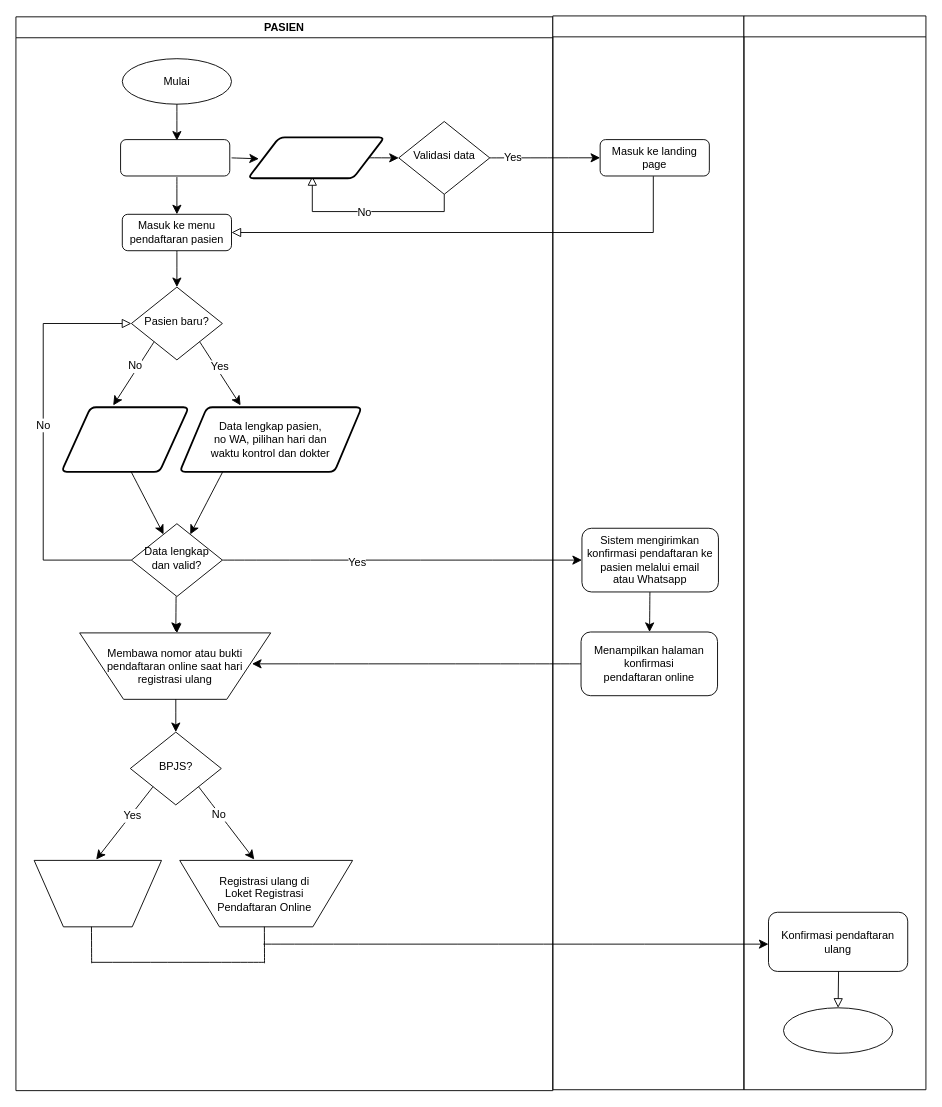
Image size: 942x1107. Some labels were removed from this diagram. Each missing label, with the box of its shape:
Login: (120, 139, 230, 176)
Masukkan data user: (247, 136, 385, 179)
MESIN/PETUGAS LOKET: (743, 15, 926, 1090)
No RM, no WA, hari/waktu kontrol dan dokter: (60, 406, 189, 472)
Registrasi ulang di mesin APM: (33, 859, 162, 927)
Selesai: (783, 1007, 893, 1053)
SISTEM: (552, 15, 744, 1090)
